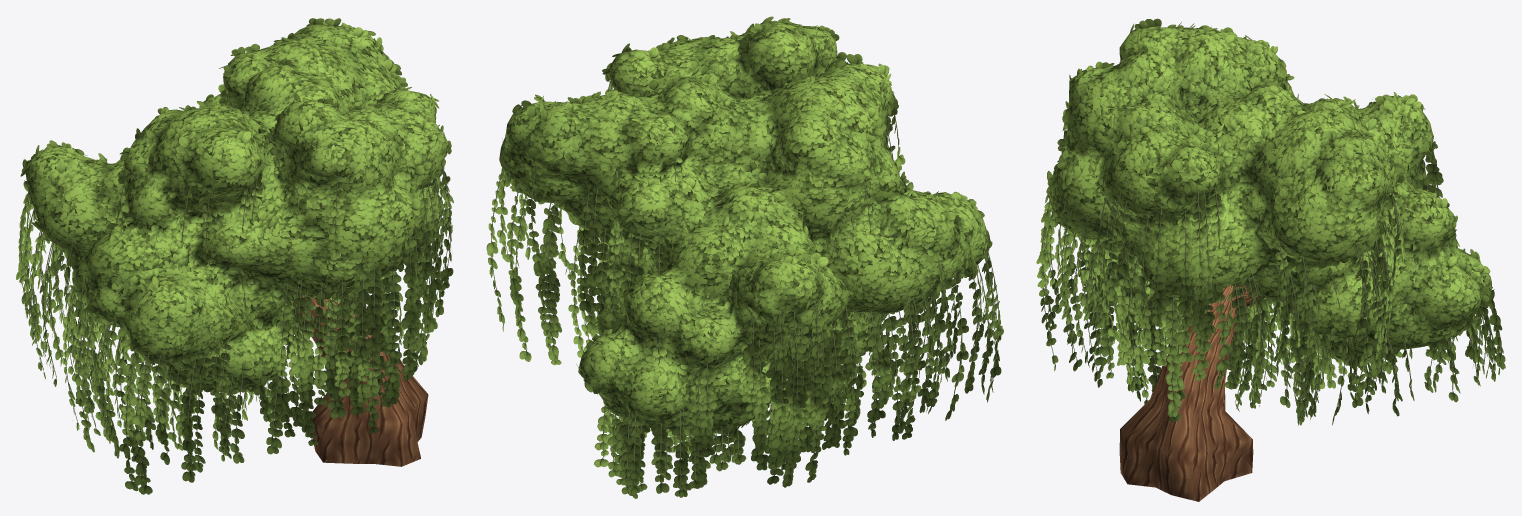
The model's file is willow_v2.glb.
The picture shows the model from 3 angles, left to right: view 1: azimuth 30°, elevation 25°; view 2: azimuth 150°, elevation 25°; view 3: azimuth 270°, elevation 25°; orthographic projection.
Visible parts, largest first — view 1: willow_v2_leaves_LOD0, willow_v2_volume_LOD0, willow_v2_trunk_LOD0, willow_v2_stems_LOD0; view 2: willow_v2_volume_LOD0, willow_v2_leaves_LOD0, willow_v2_stems_LOD0; view 3: willow_v2_leaves_LOD0, willow_v2_volume_LOD0, willow_v2_trunk_LOD0, willow_v2_stems_LOD0.
Boxes of the visible parts, box(x1,y1,x2,y2) form: willow_v2_leaves_LOD0: box(16, 18, 453, 494); willow_v2_volume_LOD0: box(25, 24, 448, 389); willow_v2_trunk_LOD0: box(298, 296, 428, 466); willow_v2_stems_LOD0: box(19, 88, 451, 483); willow_v2_volume_LOD0: box(499, 21, 988, 433); willow_v2_leaves_LOD0: box(486, 16, 1003, 498); willow_v2_stems_LOD0: box(491, 77, 999, 488); willow_v2_leaves_LOD0: box(1036, 18, 1505, 425); willow_v2_volume_LOD0: box(1049, 27, 1491, 359); willow_v2_trunk_LOD0: box(1119, 284, 1264, 501); willow_v2_stems_LOD0: box(1042, 129, 1501, 414).
Size of what is drawn, in the model's own units: 11.62 by 10.68 by 11.92.
Materials: 4 (3 with a texture image).
